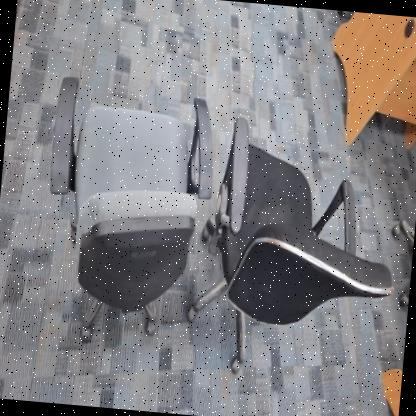chair: (177, 108, 414, 392), (30, 70, 226, 358)
